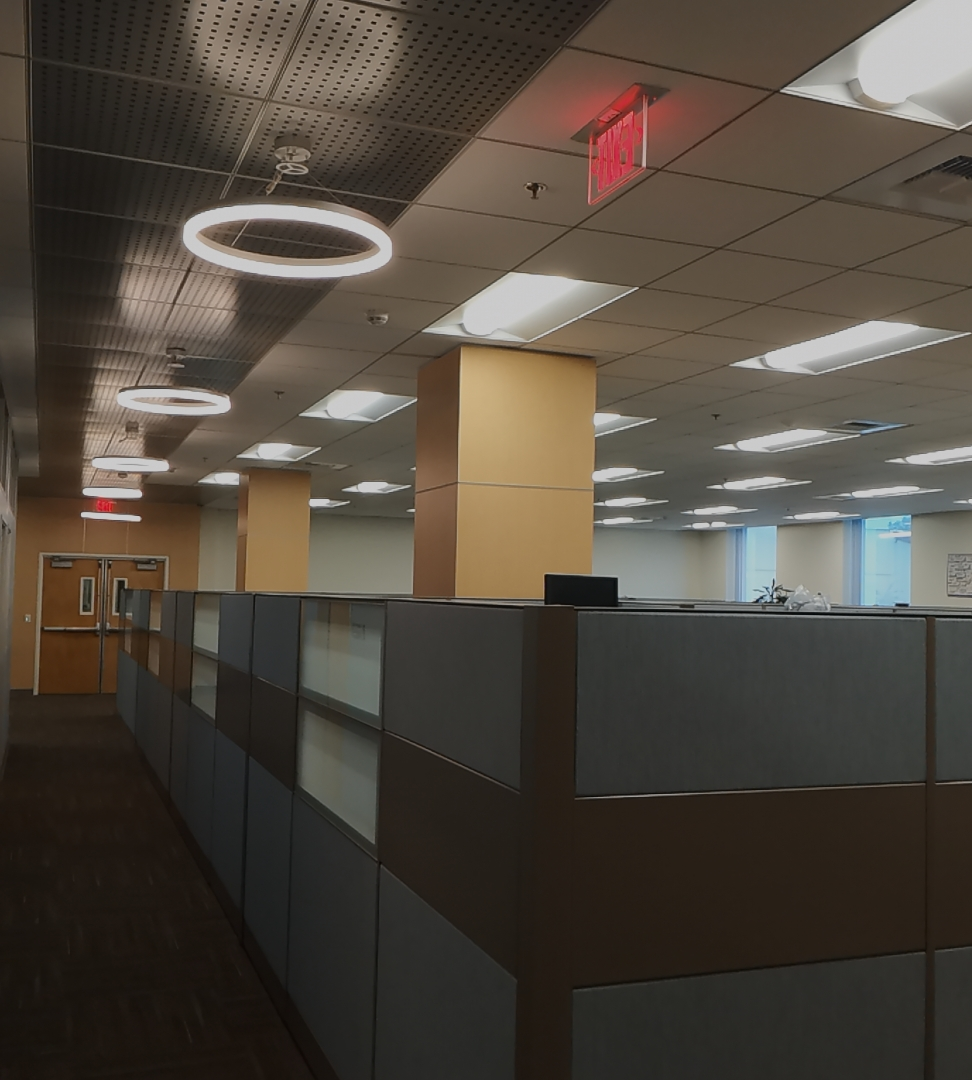emergency_exit: (583, 82, 651, 206)
